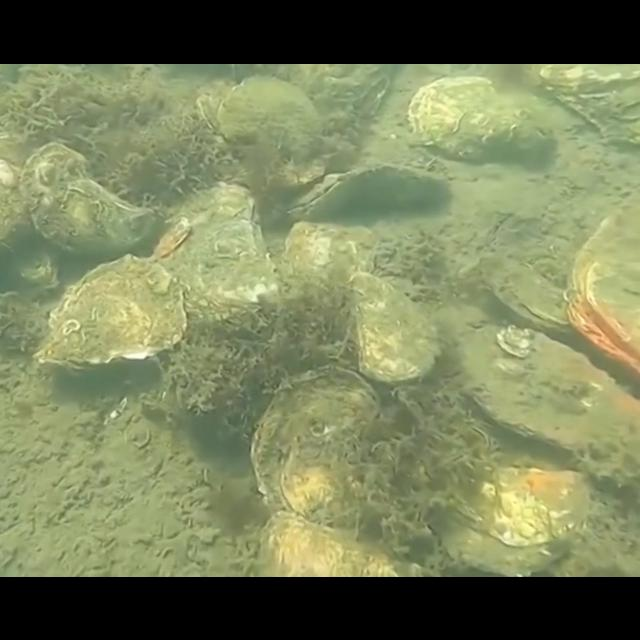Oyster-Closed: (458, 324, 640, 490), (249, 362, 383, 532), (149, 179, 281, 323), (32, 251, 190, 371), (426, 464, 590, 576), (17, 140, 156, 258), (407, 73, 557, 165), (216, 72, 326, 190), (256, 506, 422, 576), (348, 268, 442, 382), (278, 218, 374, 326), (286, 161, 454, 221), (477, 250, 575, 334), (540, 63, 640, 145)
Oyster-Open: (562, 186, 640, 374)
